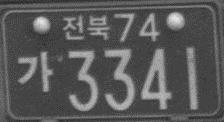1: (182, 43, 202, 113)
3: (102, 46, 137, 111), (65, 49, 98, 112)
4: (140, 45, 173, 111), (137, 11, 161, 43)
7: (112, 11, 136, 43)
가: (16, 49, 54, 93)
전북_O: (62, 13, 111, 42)
